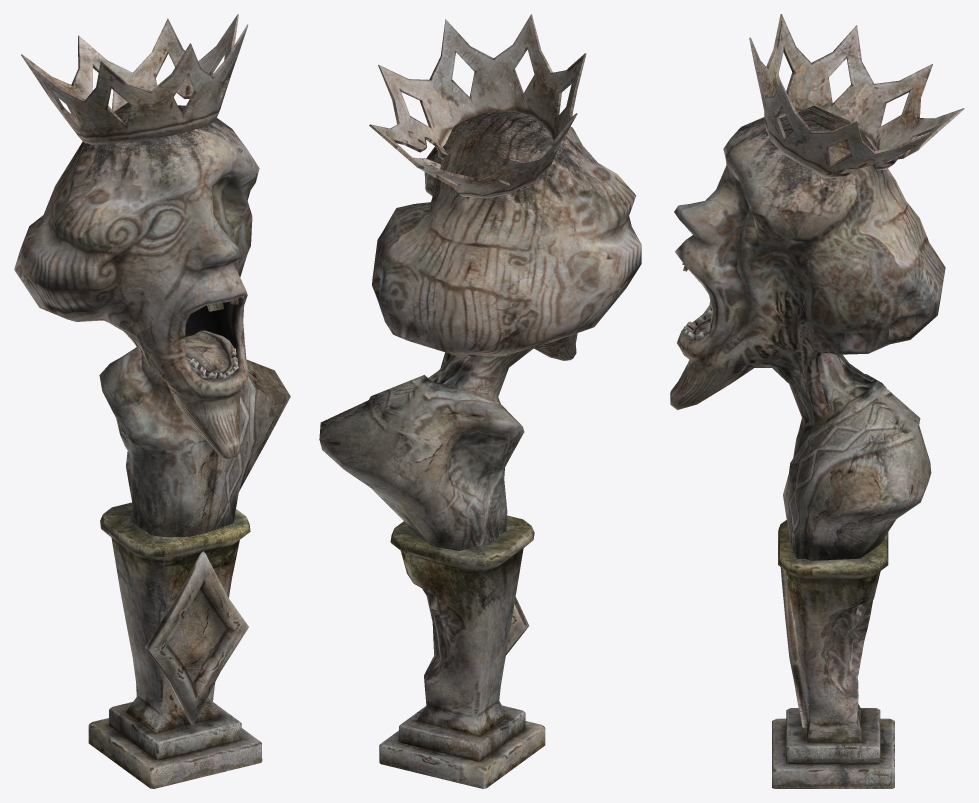
The model's file is Queen Statue C.obj.
The picture shows the model from 3 angles, left to right: view 1: azimuth 30°, elevation 25°; view 2: azimuth 150°, elevation 25°; view 3: azimuth 270°, elevation 25°; orthographic projection. The views are drawn at different scales.
Visible parts, largest first — view 1: QStatuesC; view 2: QStatuesC; view 3: QStatuesC.
Part boxes in pixels (bbox=[...]): QStatuesC: bbox=[14, 14, 290, 788]; QStatuesC: bbox=[319, 14, 641, 788]; QStatuesC: bbox=[670, 14, 964, 788].
Bounding box in the file's own units: 1.72 × 4.37 × 1.64.
1 material, 1 textured.
